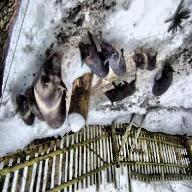boar: (40, 48, 69, 140), (108, 70, 145, 111), (102, 37, 129, 89), (79, 37, 100, 94), (150, 51, 174, 99), (18, 84, 32, 142), (146, 53, 168, 75), (134, 50, 151, 78)
